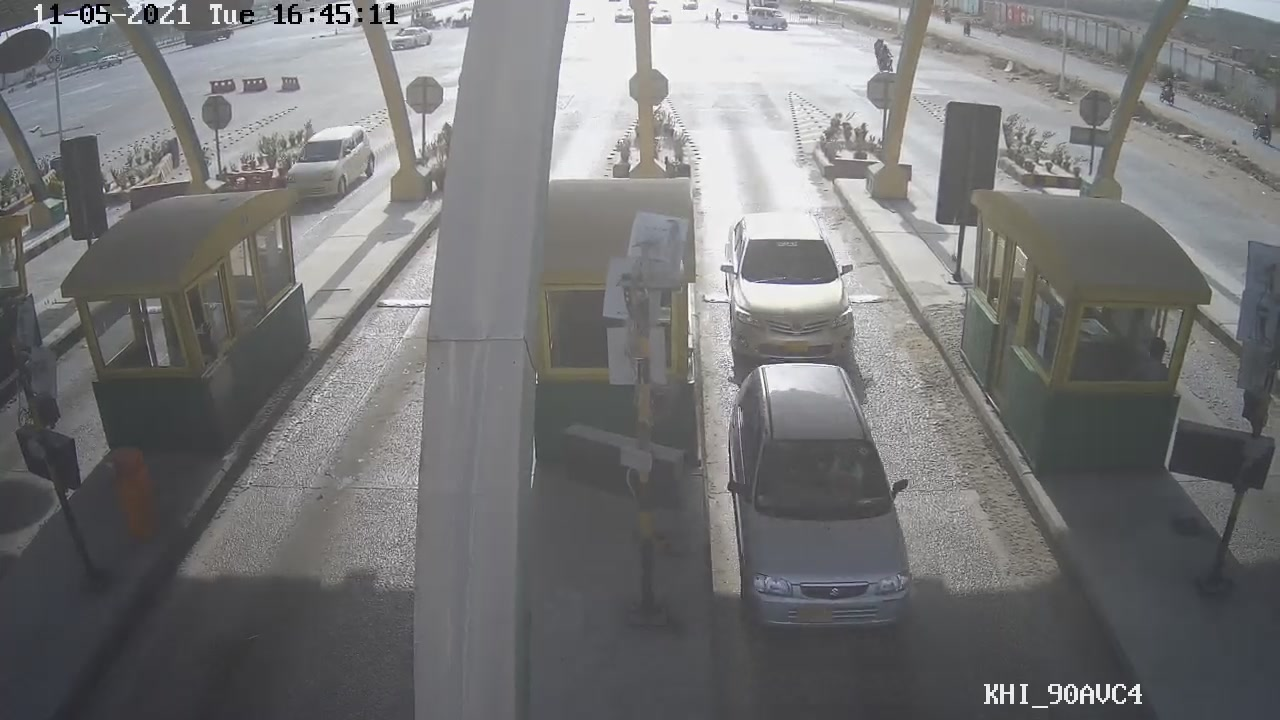F1: (722, 363, 921, 642)
